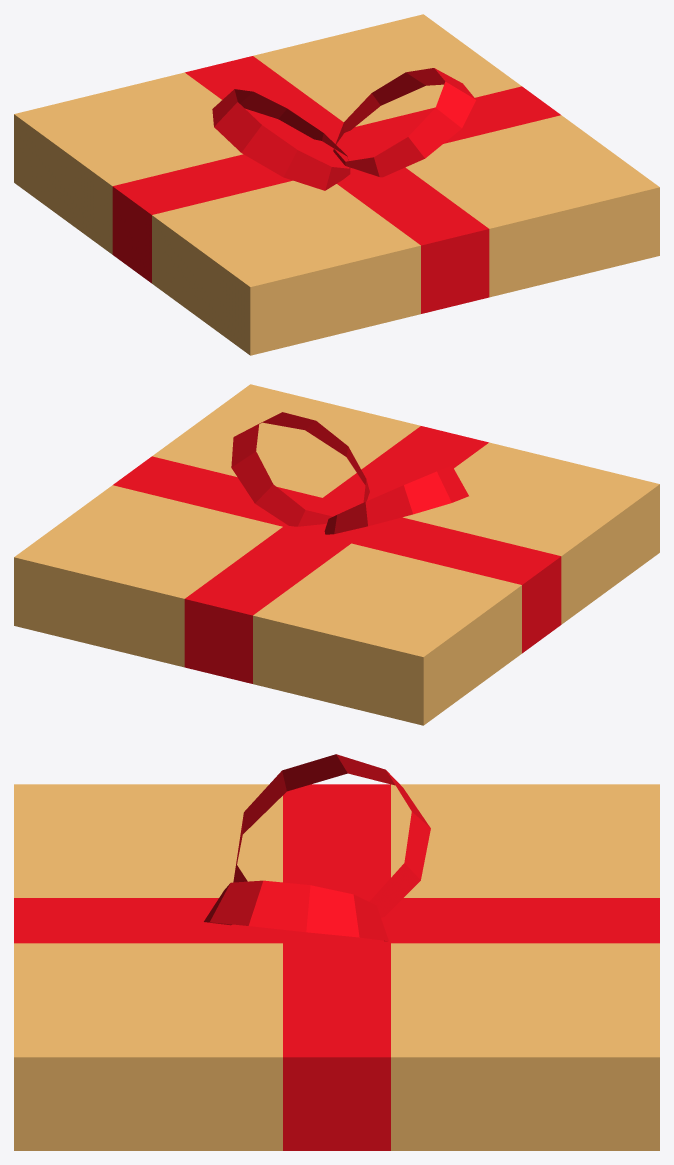
File: Chocolates.fbx
3 renders of one model, top to bottom at view 1: azimuth 30°, elevation 25°; view 2: azimuth 150°, elevation 25°; view 3: azimuth 270°, elevation 25°, orthographic. The views are drawn at different scales.
Visible parts, largest first — view 1: Chocolates; view 2: Chocolates; view 3: Chocolates.
Part boxes in pixels (left/top/right/bottom): Chocolates: left=14, top=14, right=659, bottom=355; Chocolates: left=14, top=384, right=659, bottom=725; Chocolates: left=14, top=754, right=659, bottom=1150.
Size of the model in its own units: 200 by 66.22 by 200.
